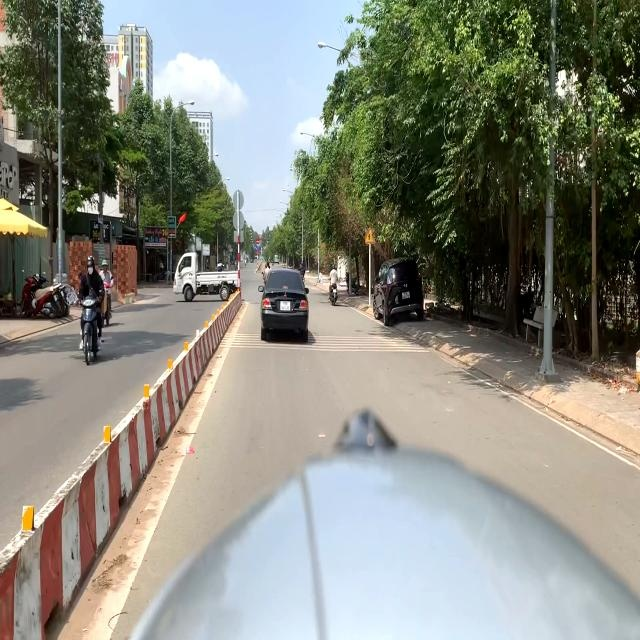bien_nguy_hiem: (365, 228, 375, 244), (256, 244, 260, 250), (256, 238, 259, 244)
